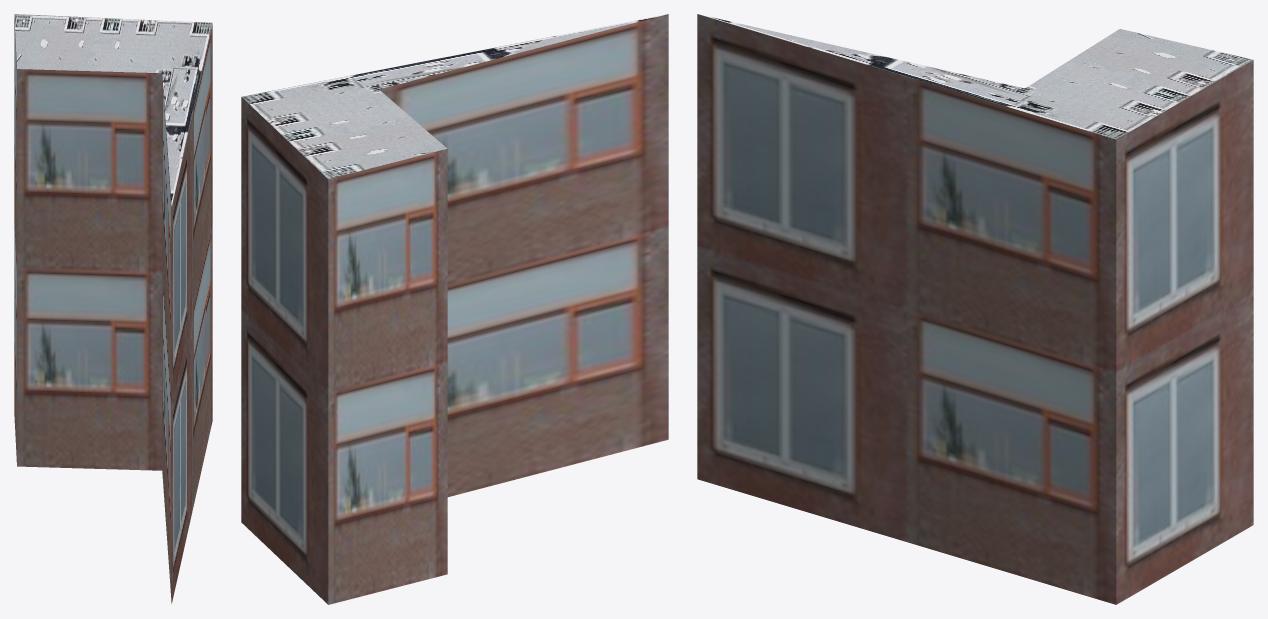
The model's file is ResTex__4567.fbx.
3 views of the same model, side by side, from view 1: azimuth 30°, elevation 25°; view 2: azimuth 150°, elevation 25°; view 3: azimuth 270°, elevation 25° (orthographic). The views are drawn at different scales.
Parts seen in each view (by area): view 1: CityEngineMaterial_19_m, CityEngineMaterial_15_m; view 2: CityEngineMaterial_19_m, CityEngineMaterial_15_m; view 3: CityEngineMaterial_19_m, CityEngineMaterial_15_m.
Part boxes in pixels (bbox=[...]): CityEngineMaterial_19_m: bbox=[14, 19, 212, 603]; CityEngineMaterial_15_m: bbox=[14, 14, 212, 206]; CityEngineMaterial_19_m: bbox=[241, 14, 668, 604]; CityEngineMaterial_15_m: bbox=[241, 14, 666, 179]; CityEngineMaterial_19_m: bbox=[697, 14, 1253, 604]; CityEngineMaterial_15_m: bbox=[699, 14, 1253, 139].
Bounding box in the file's own units: 3.48 × 6 × 6.5.
Materials: 2 (2 with a texture image).
